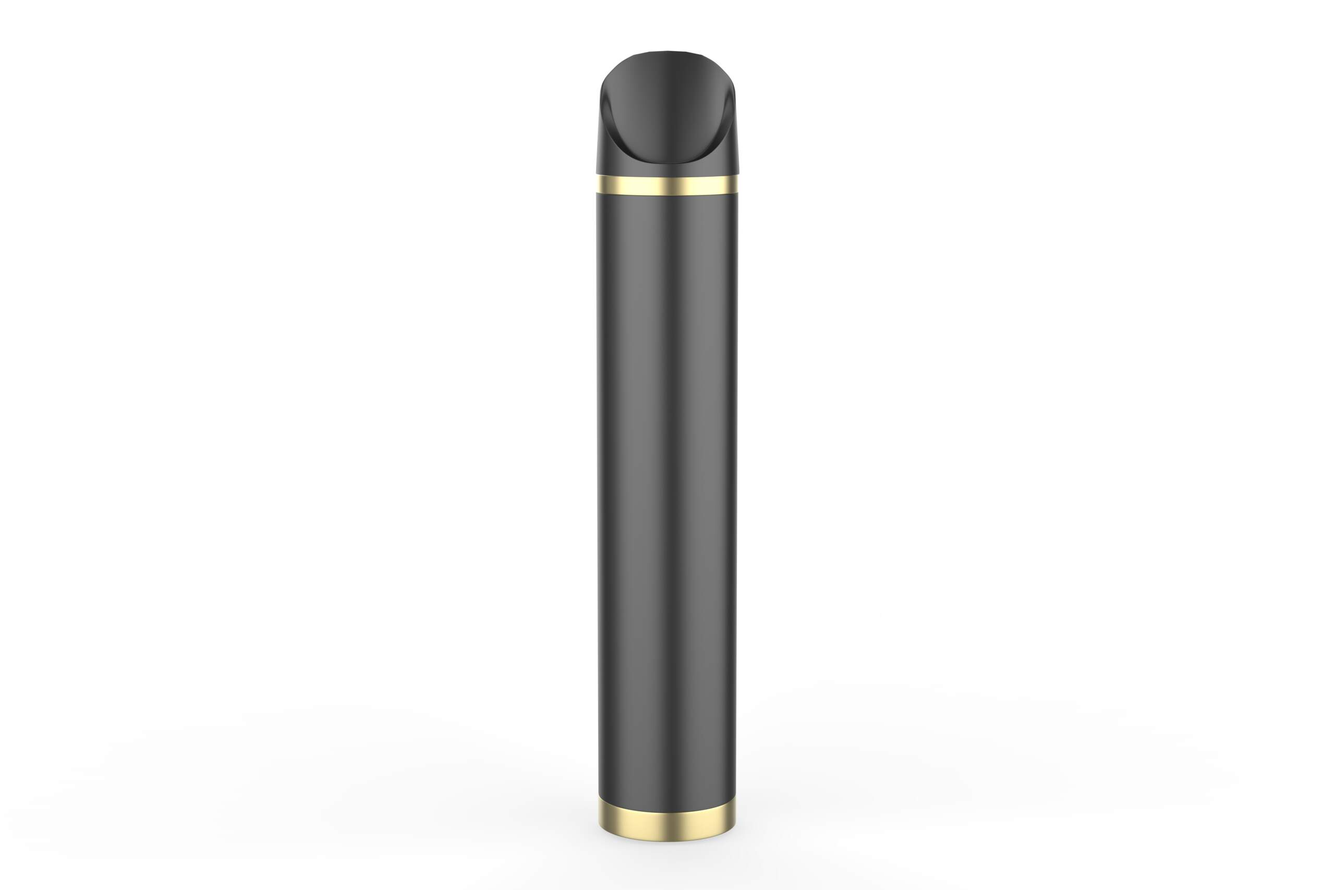weed_pen: (206, 35, 1089, 842)
